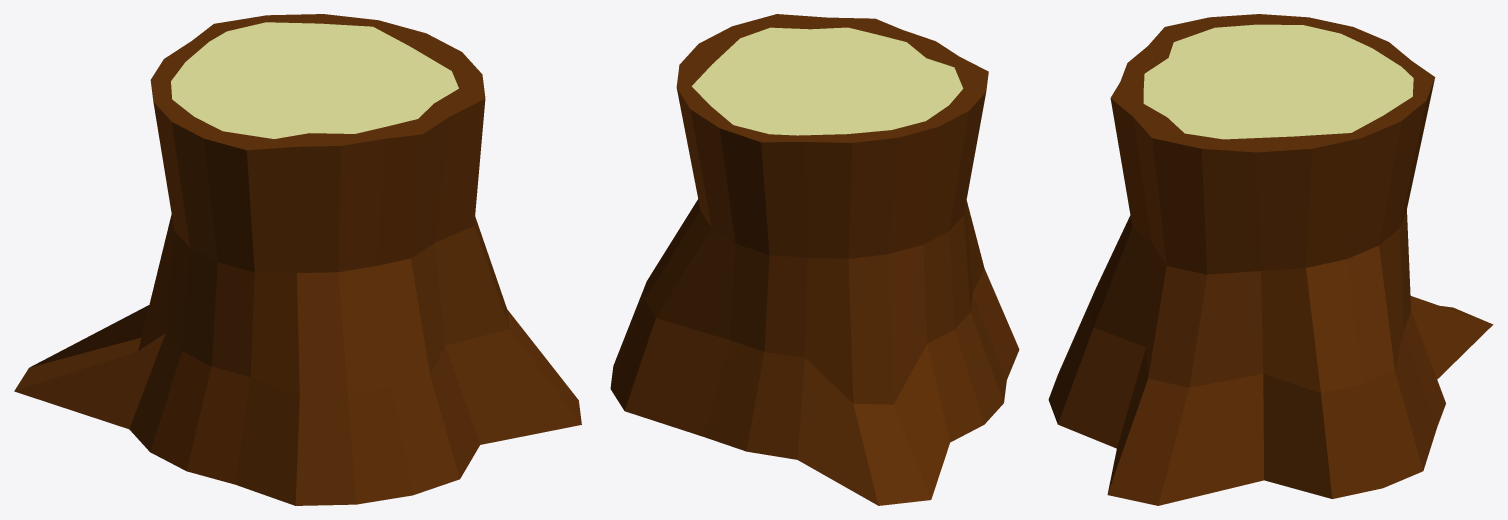
The model's file is LowPolyWood.fbx.
3 views of the same model, side by side, from view 1: azimuth 30°, elevation 25°; view 2: azimuth 150°, elevation 25°; view 3: azimuth 270°, elevation 25° (orthographic). The views are drawn at different scales.
Visible parts, largest first — view 1: Cylinder; view 2: Cylinder; view 3: Cylinder.
Part boxes in pixels (<box>): Cylinder: <box>14,14,581,505</box>; Cylinder: <box>610,14,1019,505</box>; Cylinder: <box>1048,14,1493,505</box>.
Bounding box in the file's own units: 327 × 247 × 309.
